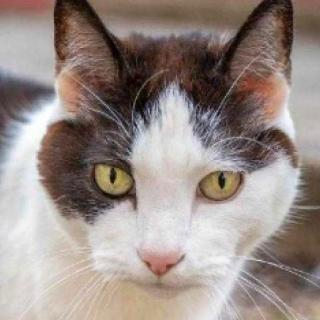cat: (50, 0, 298, 309)
nose: (132, 232, 187, 282)
